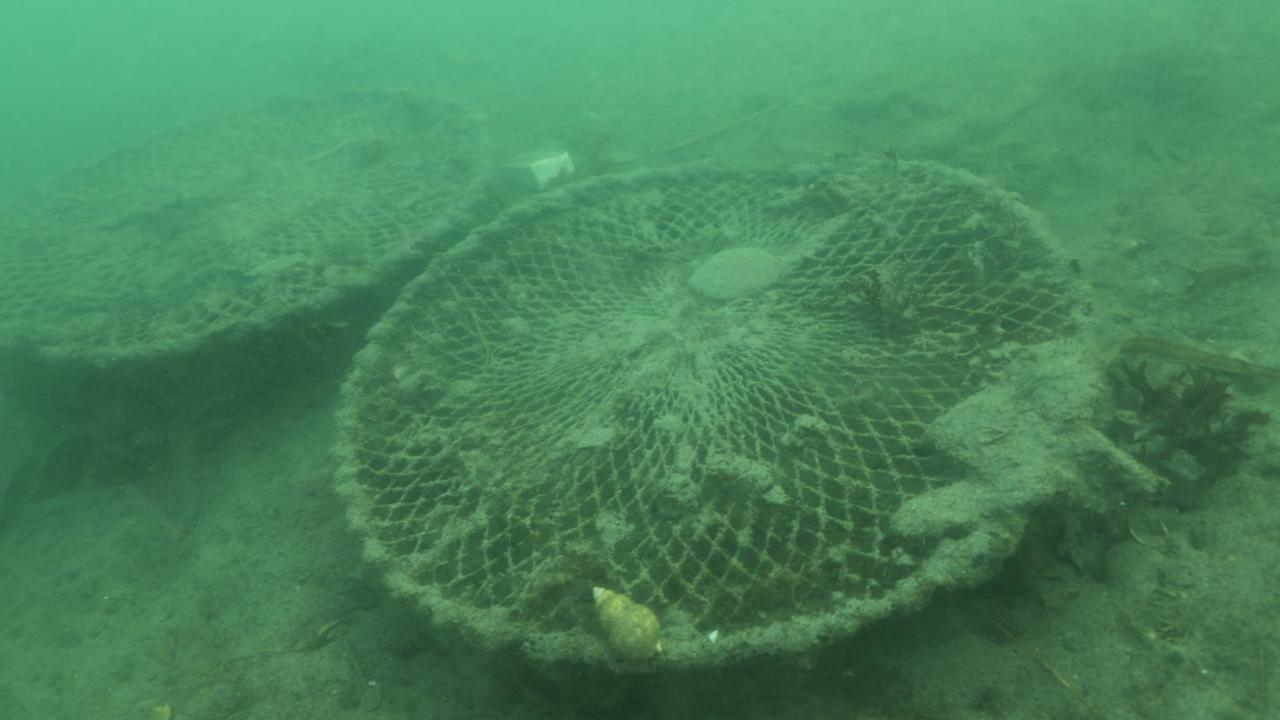circular fish trap: (334, 142, 1116, 677), (0, 67, 501, 373)
